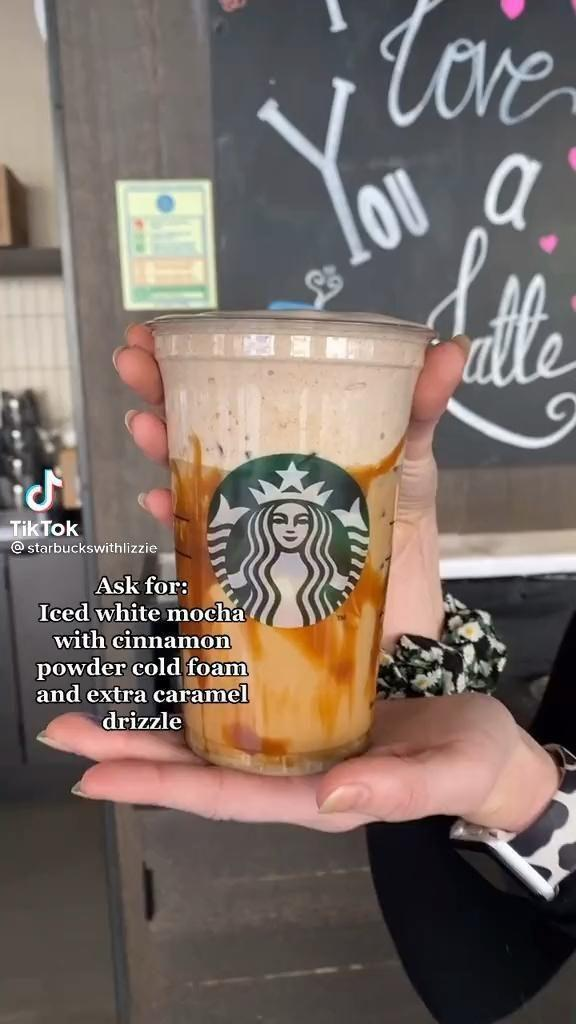cup-disposable: (148, 304, 438, 776)
